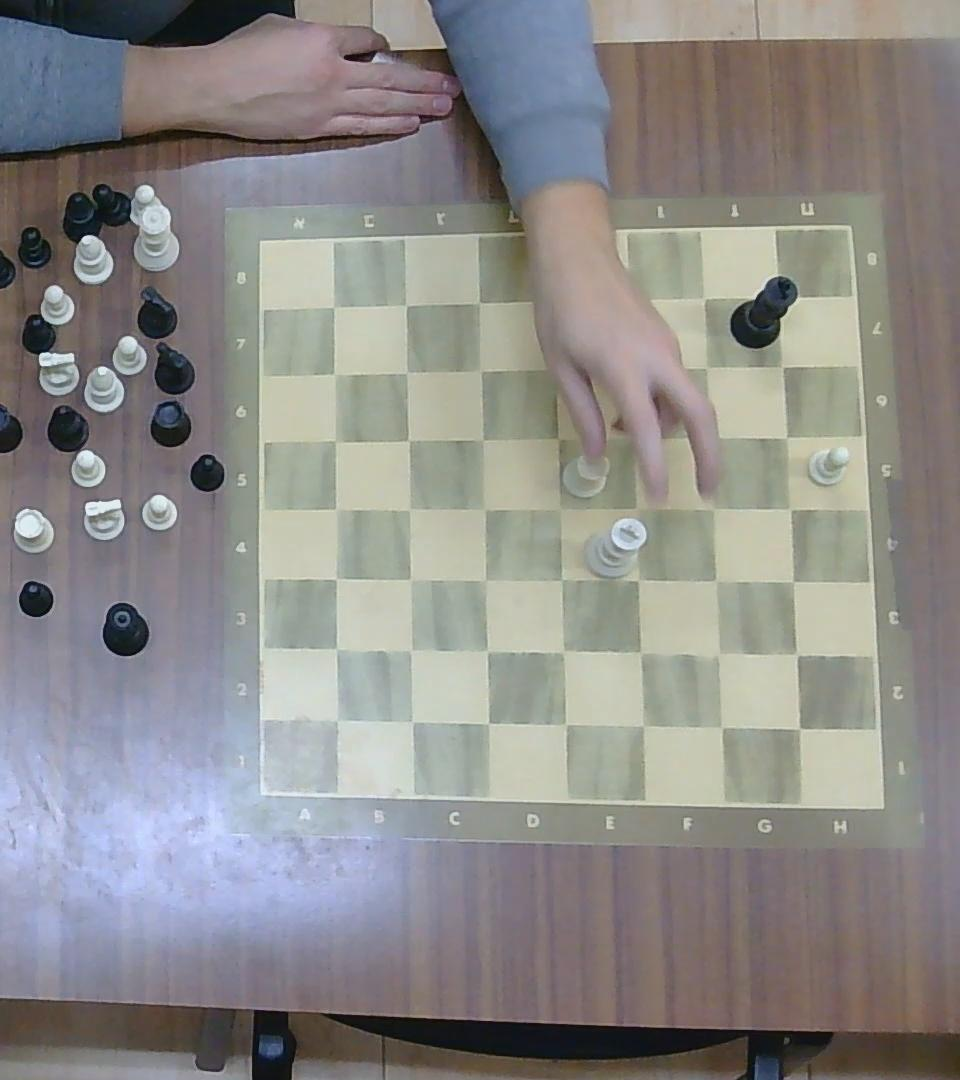xcorner: (703, 708, 737, 742), (701, 636, 734, 669), (471, 705, 502, 739), (624, 635, 656, 667), (622, 564, 654, 596), (548, 707, 579, 740), (626, 707, 657, 740), (462, 285, 493, 318), (547, 635, 578, 667), (781, 638, 812, 670), (546, 563, 578, 594), (469, 563, 500, 594), (395, 704, 425, 736), (783, 711, 813, 743), (390, 287, 420, 319), (321, 703, 351, 734), (775, 492, 805, 523), (536, 352, 566, 383), (614, 282, 643, 314), (529, 286, 558, 318), (317, 290, 347, 320), (471, 636, 501, 666), (700, 565, 730, 595), (395, 634, 424, 665), (321, 563, 350, 594), (319, 357, 348, 388), (321, 634, 350, 664), (777, 567, 807, 596), (469, 493, 499, 522), (698, 493, 728, 522), (465, 353, 494, 382), (767, 351, 796, 380), (543, 422, 572, 451), (764, 283, 792, 313), (320, 426, 349, 454), (395, 564, 423, 593), (394, 495, 423, 523), (322, 493, 350, 522), (392, 356, 420, 385), (545, 493, 573, 522), (393, 426, 422, 454), (693, 351, 721, 380), (621, 492, 650, 520), (618, 352, 644, 383), (467, 424, 495, 452), (691, 284, 719, 312), (618, 422, 645, 451), (772, 421, 800, 448), (698, 421, 725, 449)
